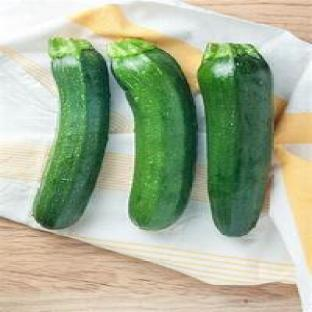Zucchini: (108, 39, 196, 229), (33, 38, 109, 228), (199, 44, 273, 236)
